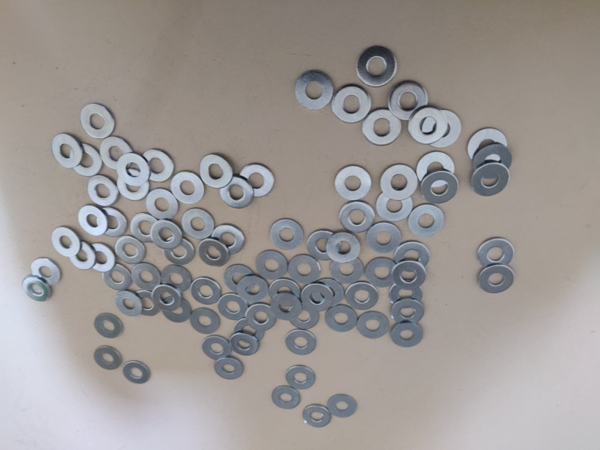circle: (355, 45, 398, 88), (388, 80, 429, 122), (422, 107, 462, 148), (362, 108, 404, 147), (331, 84, 371, 124), (294, 70, 334, 110), (468, 128, 508, 165), (379, 164, 419, 201), (470, 161, 509, 198), (408, 106, 445, 145), (472, 145, 513, 180), (420, 169, 458, 205), (334, 165, 372, 201), (79, 102, 115, 140), (218, 173, 254, 210), (239, 162, 275, 199), (417, 153, 455, 188), (69, 141, 104, 179), (99, 134, 133, 172), (169, 170, 205, 205), (140, 148, 175, 184), (393, 241, 431, 274), (376, 189, 412, 223), (287, 252, 323, 286), (329, 253, 365, 287), (199, 153, 233, 189), (116, 167, 150, 203), (477, 237, 514, 270), (408, 205, 445, 238), (325, 231, 362, 264), (339, 200, 374, 234), (98, 260, 133, 294), (268, 218, 304, 251), (51, 132, 83, 169), (145, 188, 179, 222), (116, 152, 150, 186), (365, 256, 398, 291), (310, 277, 345, 310), (391, 259, 427, 291), (477, 263, 514, 294), (49, 225, 82, 259), (366, 222, 401, 254), (388, 280, 425, 310), (130, 261, 163, 294), (345, 281, 379, 313), (244, 301, 278, 333), (212, 222, 246, 254), (158, 264, 192, 296), (87, 174, 119, 208), (356, 310, 389, 342), (85, 242, 118, 274), (181, 208, 214, 240), (114, 235, 147, 267), (96, 207, 129, 239), (306, 230, 340, 261), (129, 211, 160, 245), (255, 250, 288, 281), (237, 274, 270, 305), (77, 204, 108, 237), (284, 328, 318, 358), (324, 304, 359, 333), (224, 264, 257, 294), (29, 257, 62, 287), (217, 293, 251, 322), (391, 298, 426, 326), (163, 236, 195, 266), (390, 321, 424, 349), (199, 237, 229, 268), (270, 292, 302, 321), (201, 334, 233, 363), (131, 288, 163, 317), (92, 313, 125, 341), (161, 295, 194, 323), (232, 318, 266, 345), (67, 240, 96, 271), (301, 284, 333, 312), (190, 277, 222, 305), (284, 365, 317, 392), (289, 302, 320, 330), (21, 276, 53, 303), (153, 283, 182, 312), (114, 289, 143, 318), (326, 393, 358, 419), (229, 332, 260, 358), (213, 356, 245, 381), (94, 346, 123, 372), (302, 404, 332, 429), (271, 385, 301, 410), (121, 361, 151, 386), (190, 309, 220, 334)
